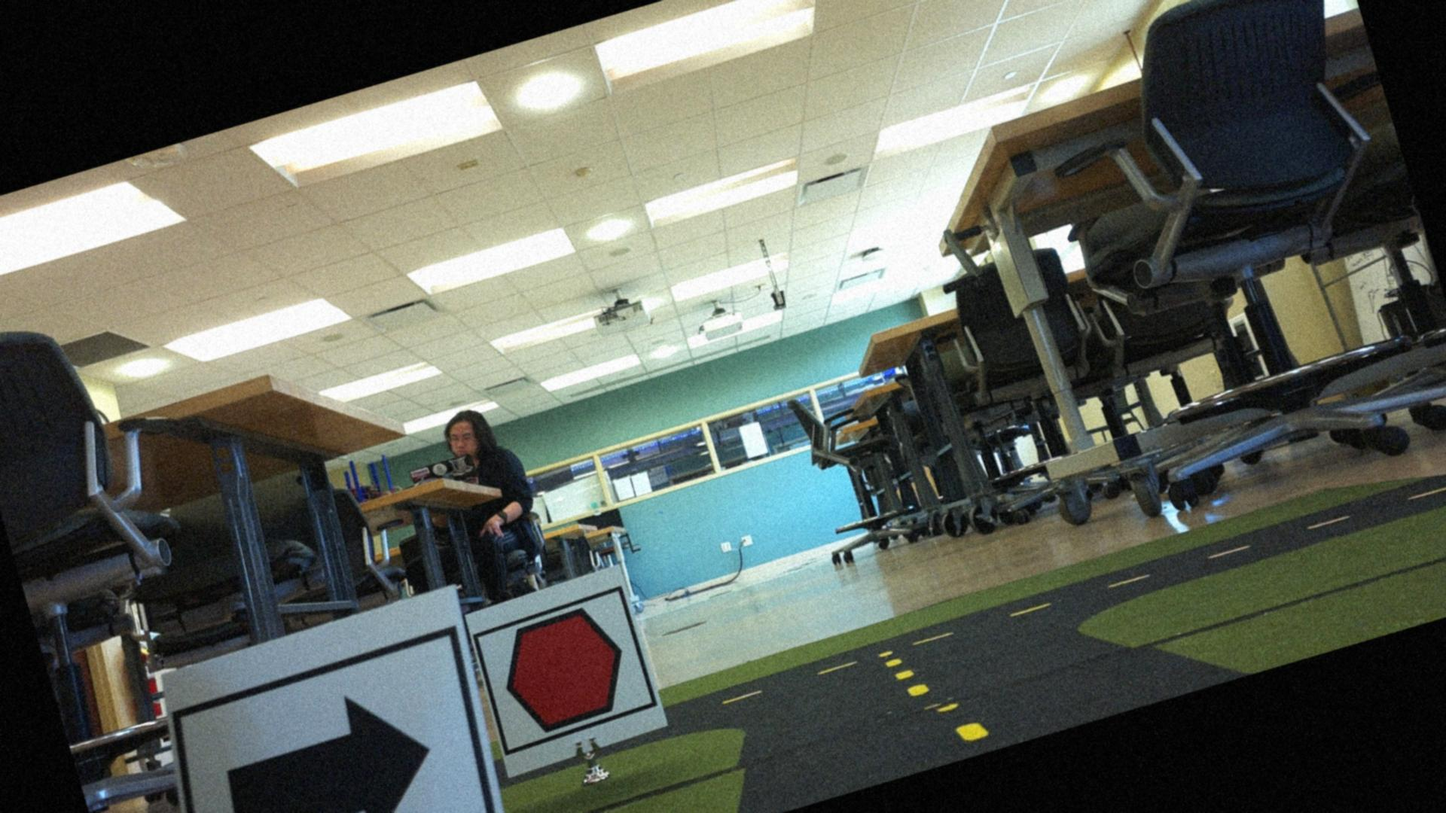stop: (474, 590, 654, 749)
turnright: (169, 632, 514, 812)
yellowline: (884, 638, 987, 762)
